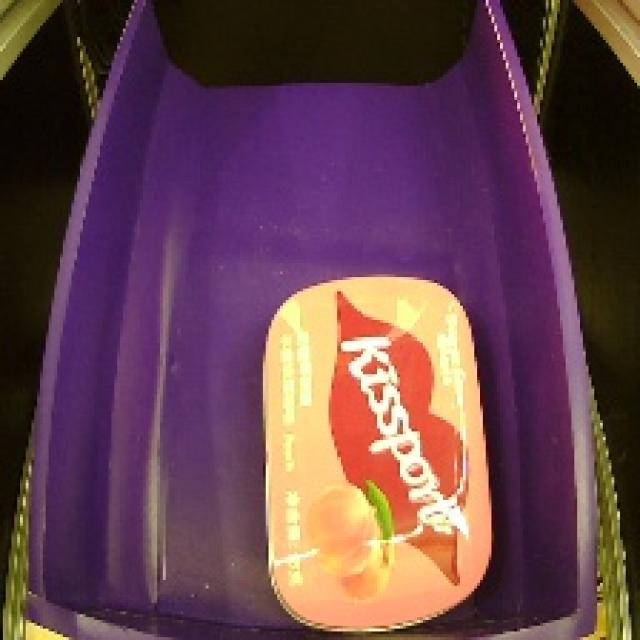metal: (248, 264, 503, 639)
